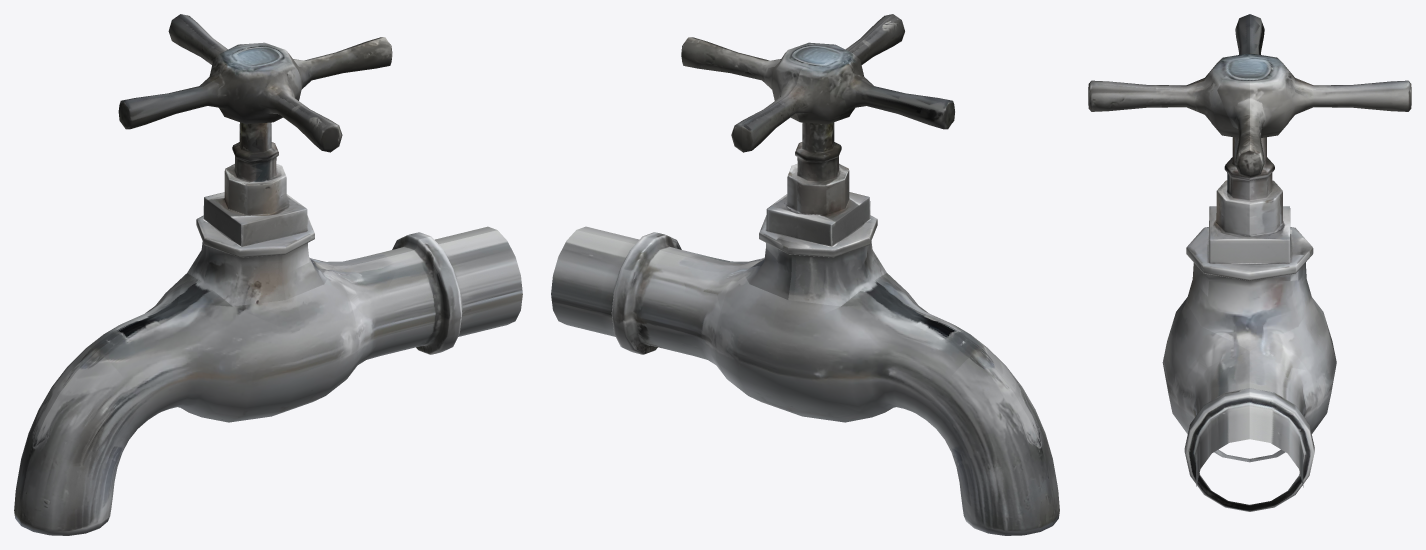
File: texture.glb
The picture shows the model from 3 angles, left to right: view 1: azimuth 30°, elevation 25°; view 2: azimuth 150°, elevation 25°; view 3: azimuth 270°, elevation 25°; orthographic projection. The views are drawn at different scales.
Visible parts, largest first — view 1: mvadapter_node_texture_mesh_9ec697d7b07343f5; view 2: mvadapter_node_texture_mesh_9ec697d7b07343f5; view 3: mvadapter_node_texture_mesh_9ec697d7b07343f5.
Boxes of the visible parts, x1,y1,x2,y2 form: mvadapter_node_texture_mesh_9ec697d7b07343f5: (14,14,522,535); mvadapter_node_texture_mesh_9ec697d7b07343f5: (551,14,1059,535); mvadapter_node_texture_mesh_9ec697d7b07343f5: (1088,14,1411,511).
Size of the model in its own units: 5.92 by 4.9 by 3.28.
Materials: 1 (1 with a texture image).
